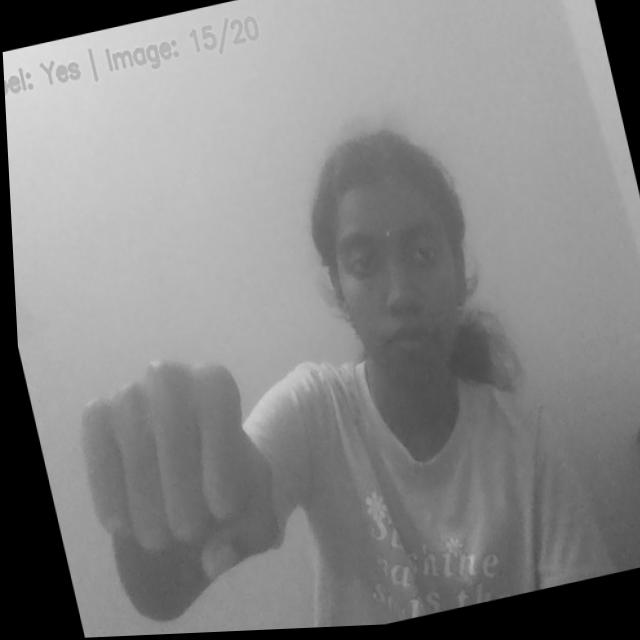Yes: (62, 348, 299, 605)
